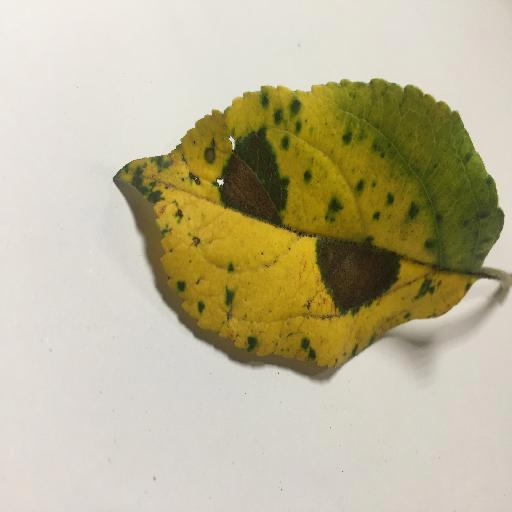Brown_Spot: (317, 243, 396, 301), (225, 163, 278, 221)
